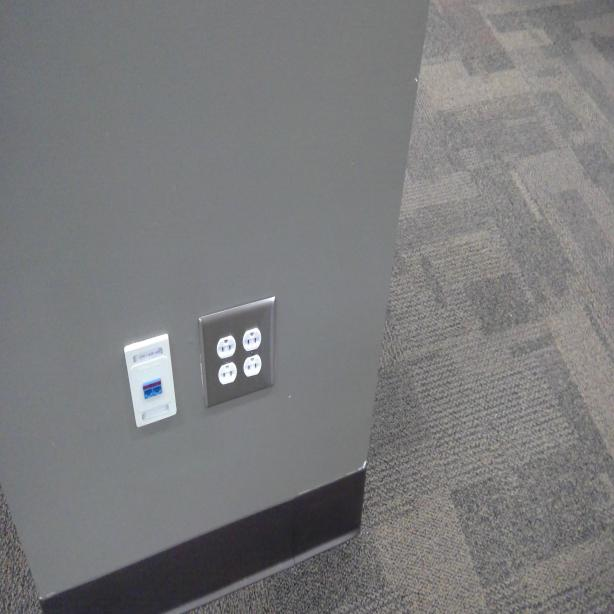typeb: (217, 331, 236, 359), (243, 329, 261, 350), (220, 364, 238, 385), (244, 356, 261, 376)
